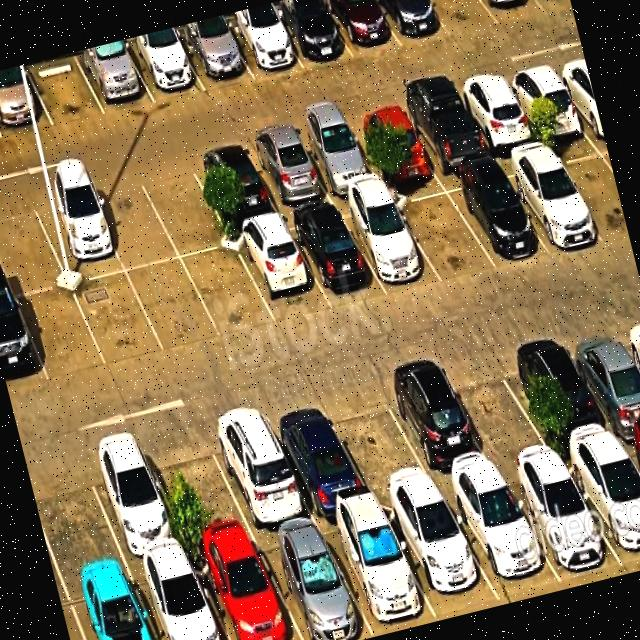empty: (439, 345, 556, 472), (140, 423, 253, 550), (320, 378, 437, 500), (26, 449, 125, 582), (389, 181, 495, 281), (136, 156, 232, 257), (86, 172, 179, 270), (72, 271, 165, 367), (127, 259, 221, 352), (16, 285, 106, 382), (548, 134, 629, 241), (182, 246, 276, 337), (0, 196, 67, 295), (25, 52, 105, 125), (426, 0, 498, 38)
occupied: (377, 360, 499, 489), (317, 505, 437, 636), (501, 459, 623, 582), (441, 474, 561, 599), (201, 402, 314, 534), (380, 492, 500, 616), (252, 522, 374, 640), (78, 435, 188, 564), (260, 393, 373, 517), (509, 329, 619, 454), (189, 537, 302, 640), (495, 147, 604, 251), (231, 218, 331, 325), (440, 166, 546, 266), (561, 440, 640, 572), (284, 205, 385, 307), (336, 193, 441, 291), (560, 318, 640, 439), (29, 183, 125, 283), (129, 552, 228, 640), (396, 90, 492, 173), (188, 143, 280, 228), (242, 130, 332, 212), (291, 118, 381, 197), (345, 104, 436, 181), (64, 567, 157, 640), (453, 75, 540, 153), (502, 63, 588, 139), (74, 41, 155, 114), (122, 32, 205, 103), (269, 0, 353, 68), (221, 10, 303, 78), (176, 22, 253, 90), (0, 293, 48, 393), (322, 0, 401, 58), (0, 64, 53, 138), (376, 0, 450, 46), (482, 0, 545, 23)
